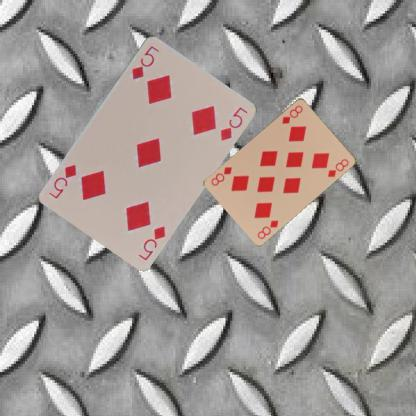5d: (126, 42, 160, 83), (135, 222, 167, 262)
8d: (279, 102, 304, 125), (255, 217, 280, 240)
